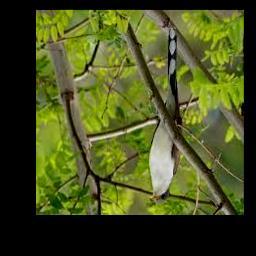Cuckoo: (148, 26, 181, 203)
